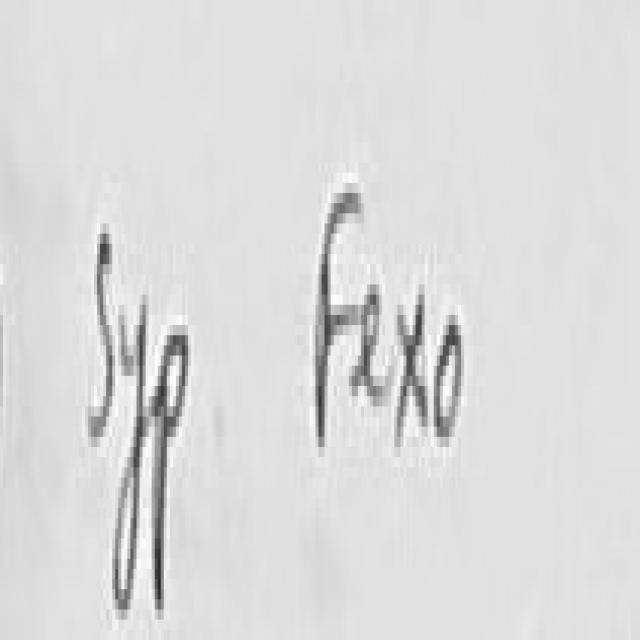F: (315, 193, 364, 442)
S: (88, 234, 112, 437)
e: (361, 284, 388, 406)
o: (437, 325, 464, 437)
p: (155, 335, 188, 610)
x: (397, 295, 428, 442)
y: (115, 305, 144, 620)
